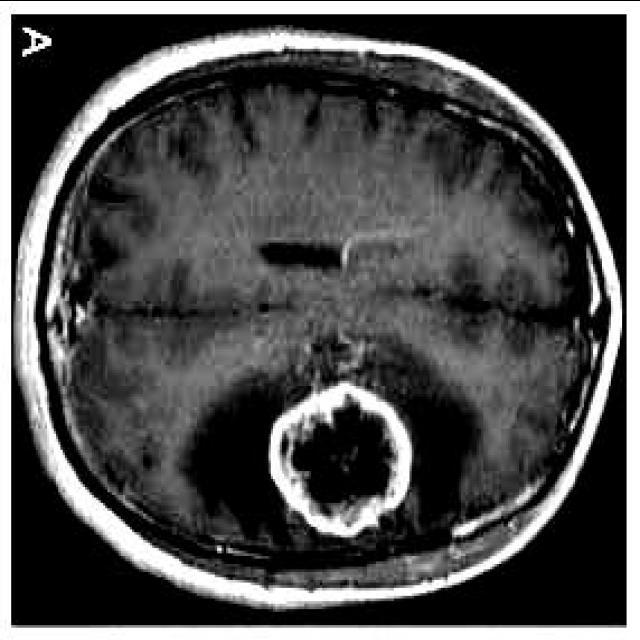tumor: (269, 380, 416, 536)
